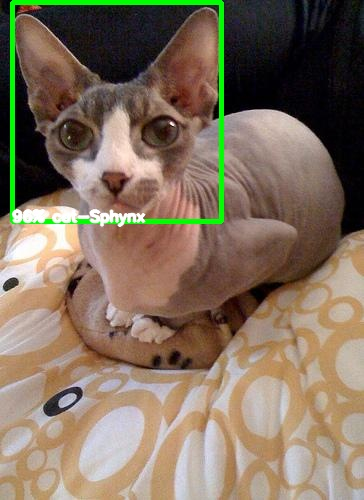cat-Sphynx: (13, 6, 221, 223)
